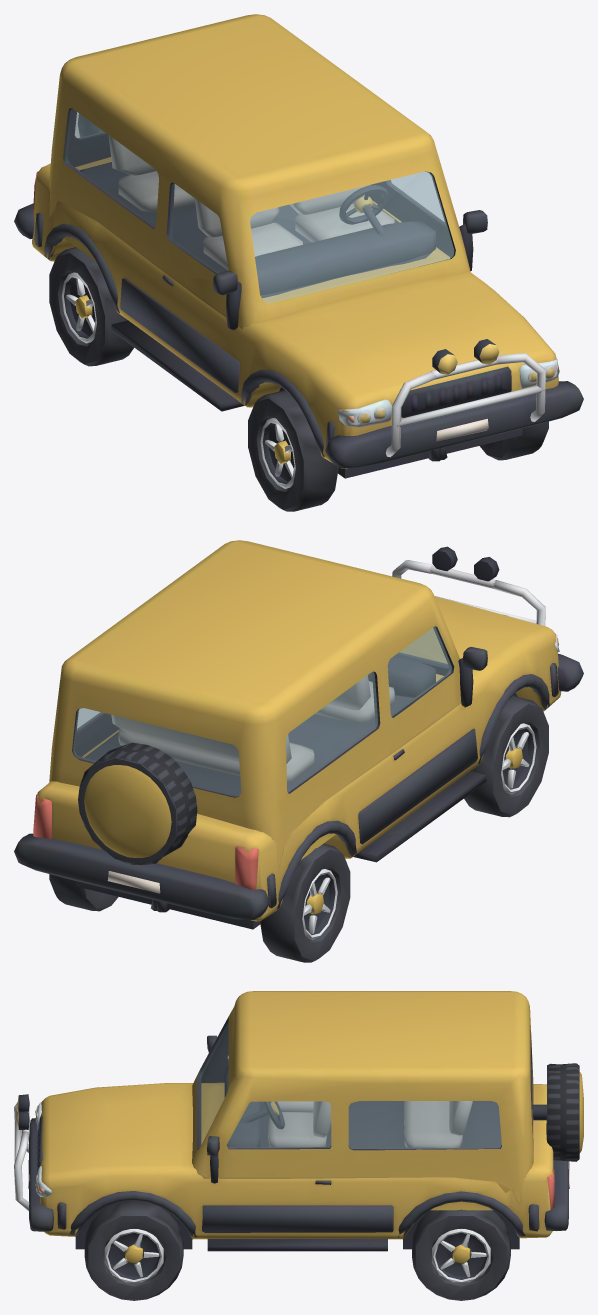
The picture shows the model from 3 angles, top to bottom: view 1: azimuth 30°, elevation 25°; view 2: azimuth 150°, elevation 25°; view 3: azimuth 270°, elevation 25°; orthographic projection. The views are drawn at different scales.
Parts seen in each view (by area): view 1: 1990s-off-roader_body, 1990s-off-roader_windows, 1990s-off-roader_wheel_fr, 1990s-off-roader_wheel_rr, 1990s-off-roader_wheel_fl, 1990s-off-roader_fog_lights; view 2: 1990s-off-roader_body, 1990s-off-roader_windows, 1990s-off-roader_spare_tyre, 1990s-off-roader_wheel_rr, 1990s-off-roader_wheel_fr, 1990s-off-roader_wheel_rl, 1990s-off-roader_fog_lights; view 3: 1990s-off-roader_body, 1990s-off-roader_windows, 1990s-off-roader_wheel_fl, 1990s-off-roader_wheel_rl, 1990s-off-roader_spare_tyre, 1990s-off-roader_fog_lights.
Part boxes in pixels (x1=…): 1990s-off-roader_body: x1=14, y1=14, x2=583, y2=478; 1990s-off-roader_windows: x1=65, y1=108, x2=453, y2=303; 1990s-off-roader_wheel_fr: x1=248, y1=390, x2=338, y2=511; 1990s-off-roader_wheel_rr: x1=49, y1=247, x2=133, y2=366; 1990s-off-roader_wheel_fl: x1=480, y1=421, x2=548, y2=460; 1990s-off-roader_fog_lights: x1=432, y1=339, x2=499, y2=374; 1990s-off-roader_body: x1=14, y1=540, x2=583, y2=929; 1990s-off-roader_windows: x1=73, y1=626, x2=451, y2=796; 1990s-off-roader_spare_tyre: x1=78, y1=742, x2=197, y2=865; 1990s-off-roader_wheel_rr: x1=260, y1=843, x2=350, y2=962; 1990s-off-roader_wheel_fr: x1=464, y1=696, x2=548, y2=817; 1990s-off-roader_wheel_rl: x1=49, y1=874, x2=118, y2=911; 1990s-off-roader_fog_lights: x1=432, y1=546, x2=499, y2=581; 1990s-off-roader_body: x1=14, y1=991, x2=569, y2=1251; 1990s-off-roader_windows: x1=199, y1=1022, x2=501, y2=1149; 1990s-off-roader_wheel_fl: x1=84, y1=1201, x2=183, y2=1300; 1990s-off-roader_wheel_rl: x1=412, y1=1209, x2=510, y2=1300; 1990s-off-roader_spare_tyre: x1=532, y1=1063, x2=583, y2=1161; 1990s-off-roader_fog_lights: x1=16, y1=1094, x2=29, y2=1130.
Bounding box in the file's own units: 1.95 × 1.87 × 4.32.
Materials: 4 (2 with a texture image).
